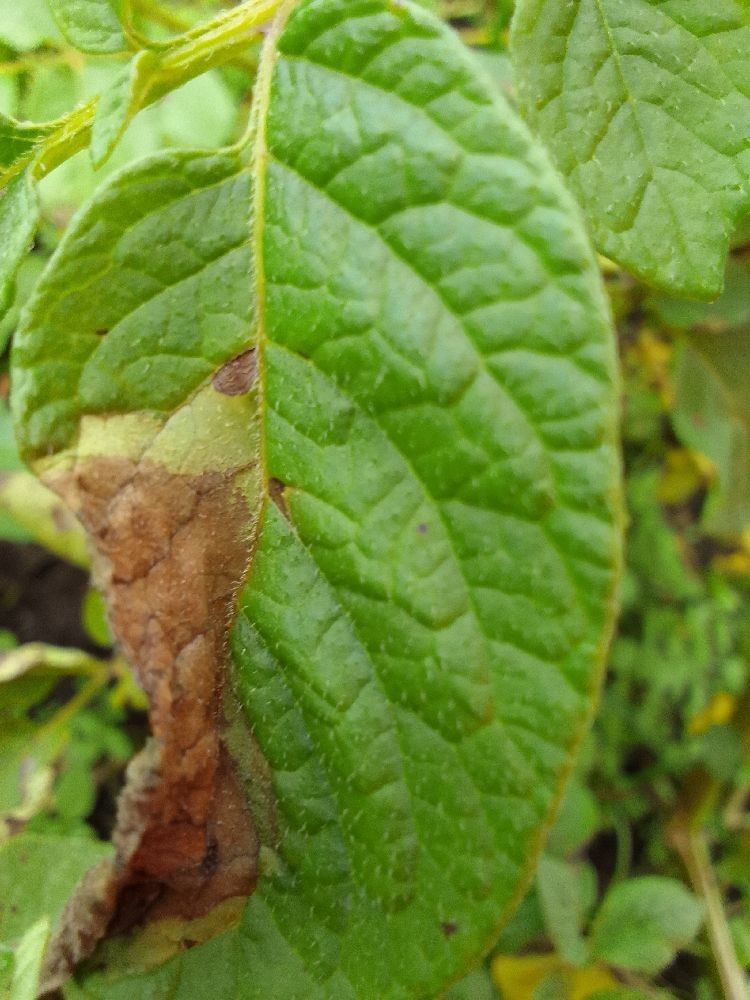late_blight: (0, 390, 309, 999), (389, 582, 750, 1000), (561, 228, 750, 662), (195, 338, 269, 409)
